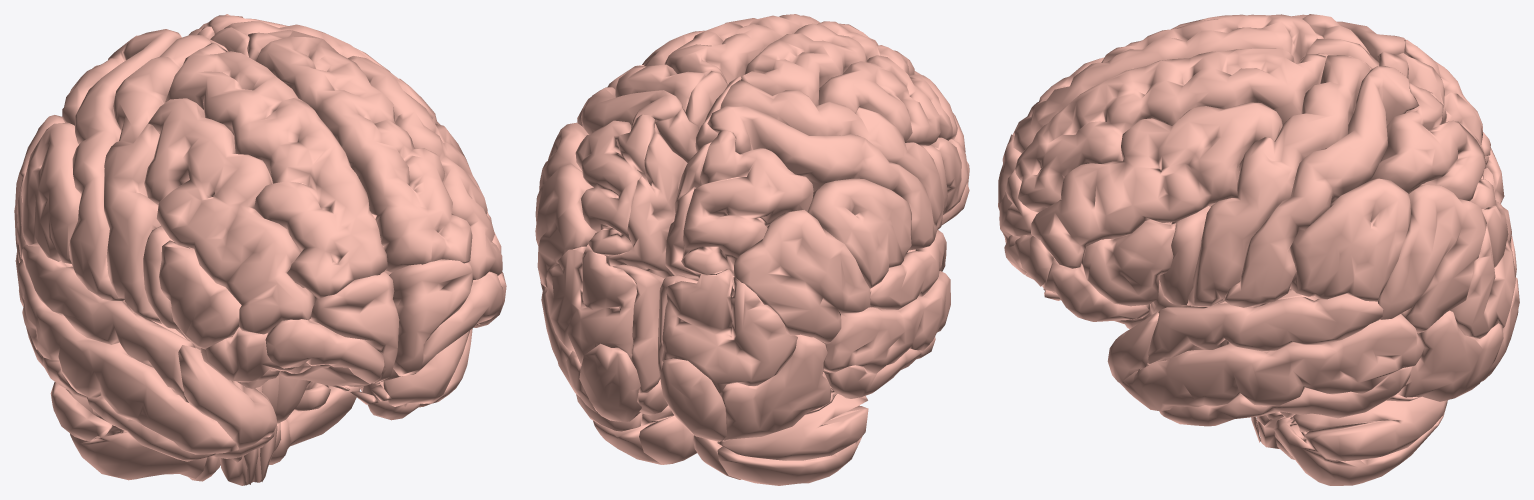
Rendered from brain.glb.
The picture shows the model from 3 angles, left to right: view 1: azimuth 30°, elevation 25°; view 2: azimuth 150°, elevation 25°; view 3: azimuth 270°, elevation 25°; orthographic projection. The views are drawn at different scales.
Parts seen in each view (by area): view 1: Allen_olfactory_bulb_L; view 2: Allen_olfactory_bulb_L; view 3: Allen_olfactory_bulb_L.
Boxes of the visible parts, <box> form: Allen_olfactory_bulb_L: <box>14,14,506,485</box>; Allen_olfactory_bulb_L: <box>535,14,969,485</box>; Allen_olfactory_bulb_L: <box>998,14,1519,485</box>.
Size of the model in its own units: 0.1363 by 0.146 by 0.1668.
